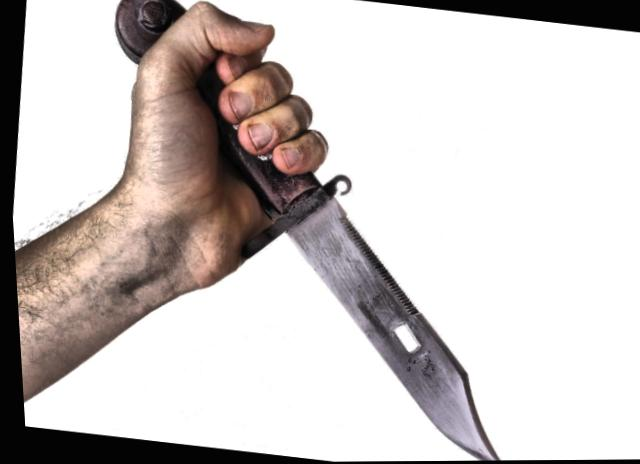knife: (156, 72, 550, 463)
